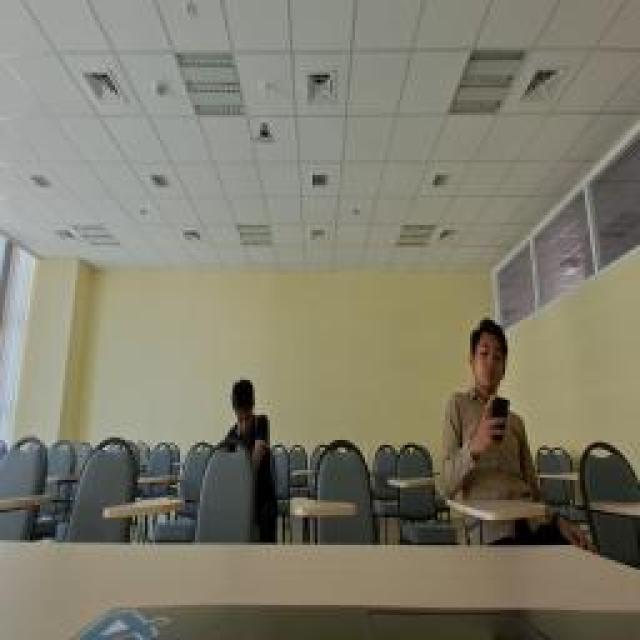phone: (440, 320, 538, 500)
study: (217, 370, 275, 472)
